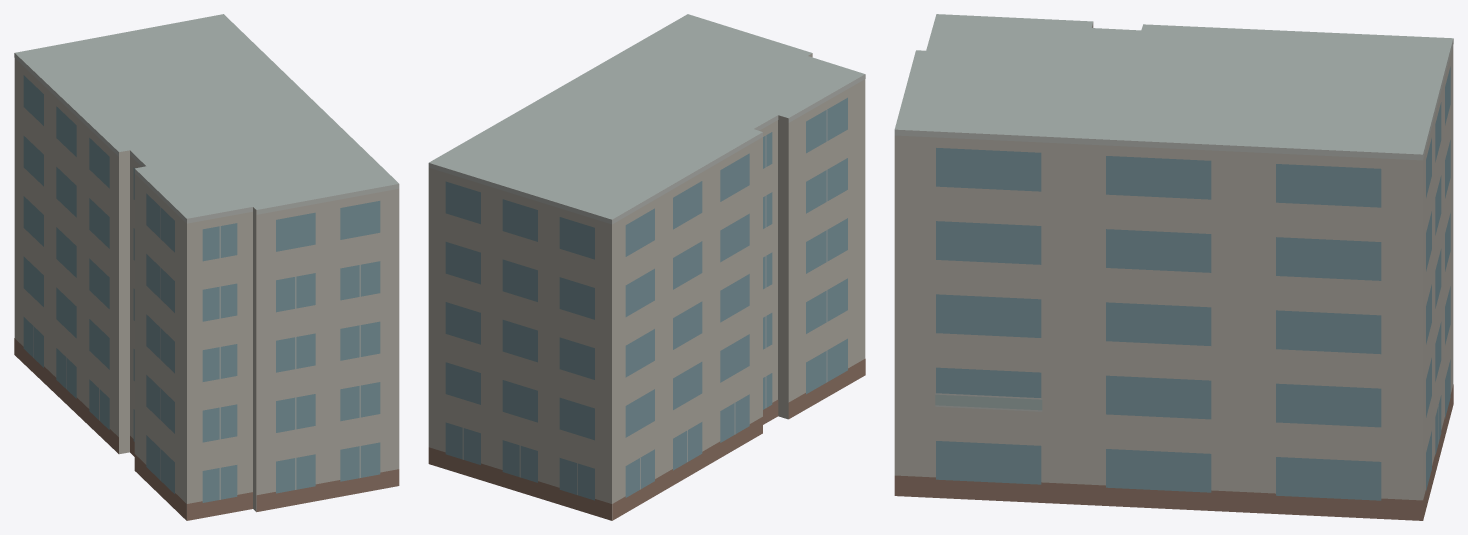
Rendered from survey-upis-32685403.glb.
3 views of the same model, side by side, from view 1: azimuth 30°, elevation 25°; view 2: azimuth 150°, elevation 25°; view 3: azimuth 270°, elevation 25° (orthographic). The views are drawn at different scales.
Visible parts, largest first — view 1: survey-upis-32685403.tmp; view 2: survey-upis-32685403.tmp; view 3: survey-upis-32685403.tmp.
Boxes of the visible parts, x1,y1,x2,y2 form: survey-upis-32685403.tmp: (14, 14, 399, 520); survey-upis-32685403.tmp: (428, 14, 865, 520); survey-upis-32685403.tmp: (894, 14, 1453, 520).
Size of the model in its own units: 12.52 by 15.2 by 21.03.
